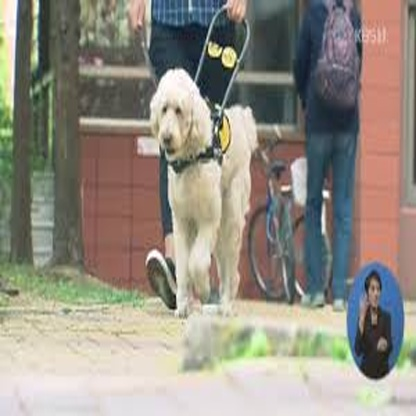guide-dog: (142, 68, 260, 334)
